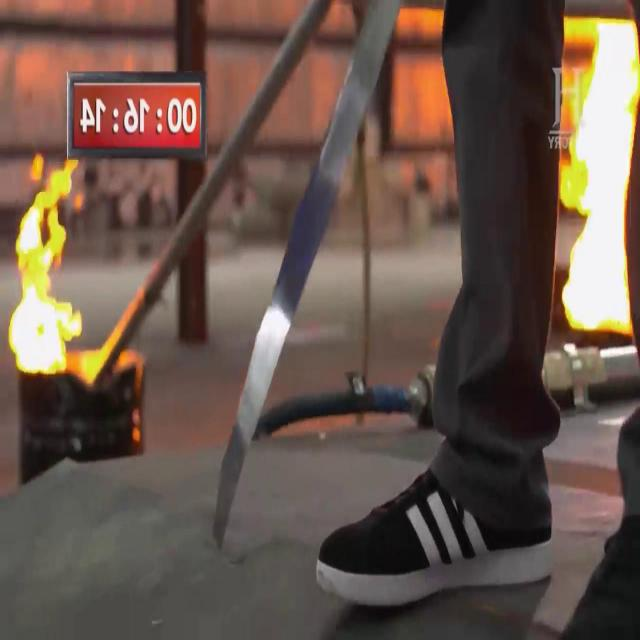fire: (2, 159, 73, 383)
